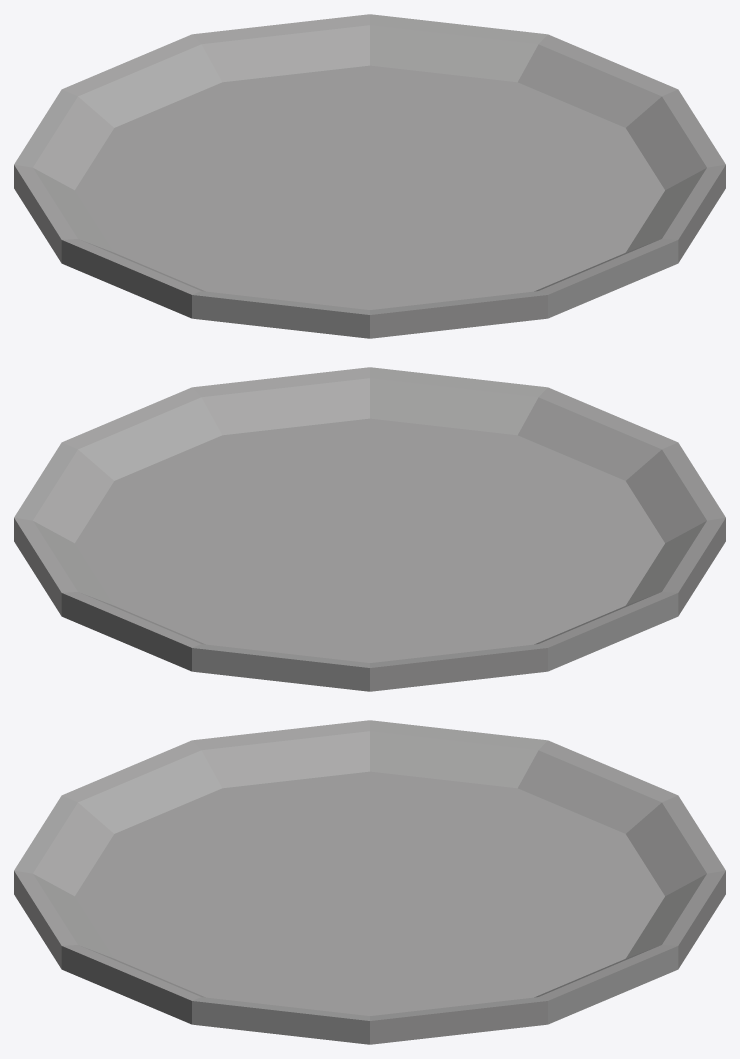
File: FurnAcc_Plate.fbx
3 renders of one model, top to bottom at view 1: azimuth 30°, elevation 25°; view 2: azimuth 150°, elevation 25°; view 3: azimuth 270°, elevation 25°, orthographic.
Parts seen in each view (by area): view 1: FurnAcc_Plate; view 2: FurnAcc_Plate; view 3: FurnAcc_Plate.
Part boxes in pixels (box(x1,y1,x2,y2)): FurnAcc_Plate: box(14, 14, 725, 338); FurnAcc_Plate: box(14, 367, 725, 691); FurnAcc_Plate: box(14, 720, 725, 1044).
Size of the model in its own units: 23.67 by 1.67 by 23.67.
